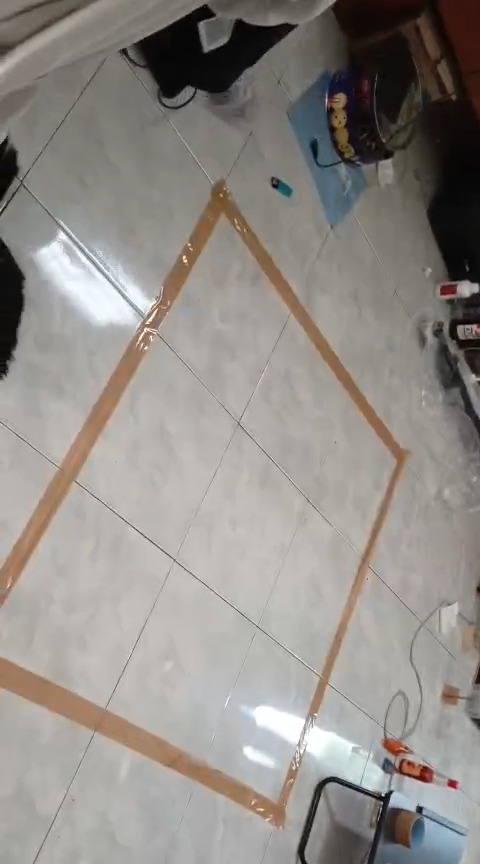floor marking: (1, 179, 408, 826)
